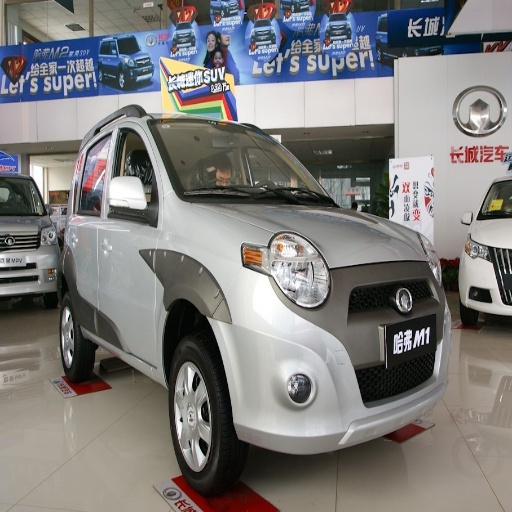front_bumper: (215, 234, 444, 452)
front_right_door: (99, 114, 157, 360)
front_right_light: (243, 230, 328, 309)
trunk: (424, 38, 509, 113)
